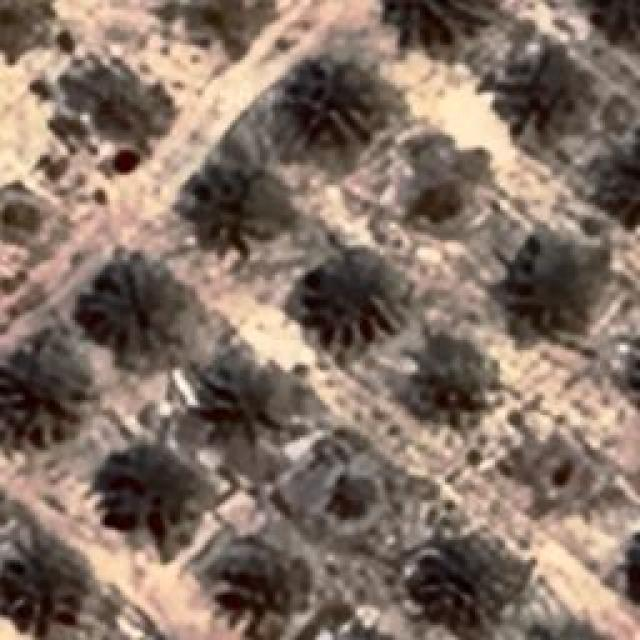PalmTree: (40, 81, 620, 178), (58, 24, 611, 81), (108, 448, 212, 554), (412, 531, 520, 631), (88, 266, 184, 359), (298, 251, 398, 340), (507, 235, 595, 330), (2, 332, 82, 436), (292, 64, 376, 162), (205, 362, 298, 450), (410, 340, 490, 435), (190, 157, 272, 245), (502, 50, 582, 135), (0, 549, 78, 629), (222, 548, 300, 624), (378, 0, 492, 45), (321, 466, 384, 529), (516, 612, 618, 640), (516, 622, 616, 640), (623, 328, 640, 421), (629, 330, 640, 421), (630, 524, 640, 616)
